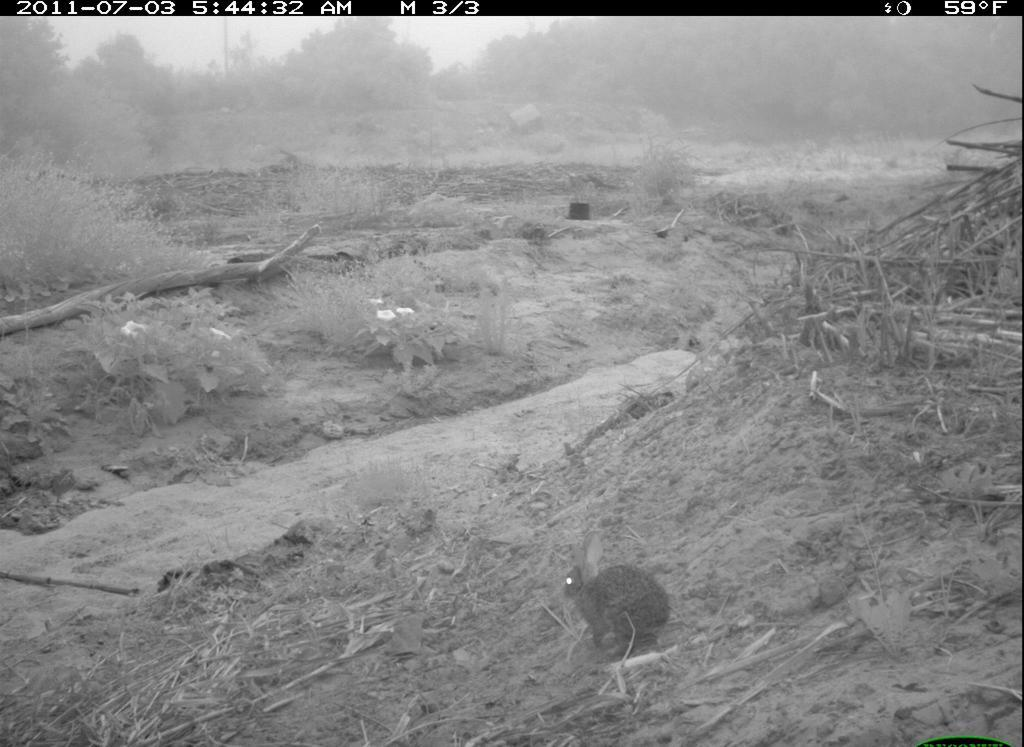rabbit: (551, 527, 690, 670)
